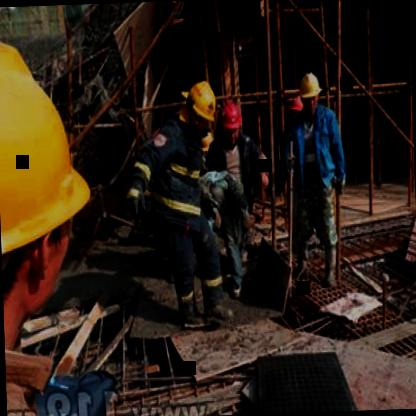helmet: (0, 35, 101, 364), (182, 79, 224, 136), (295, 70, 323, 116), (217, 96, 242, 143)
